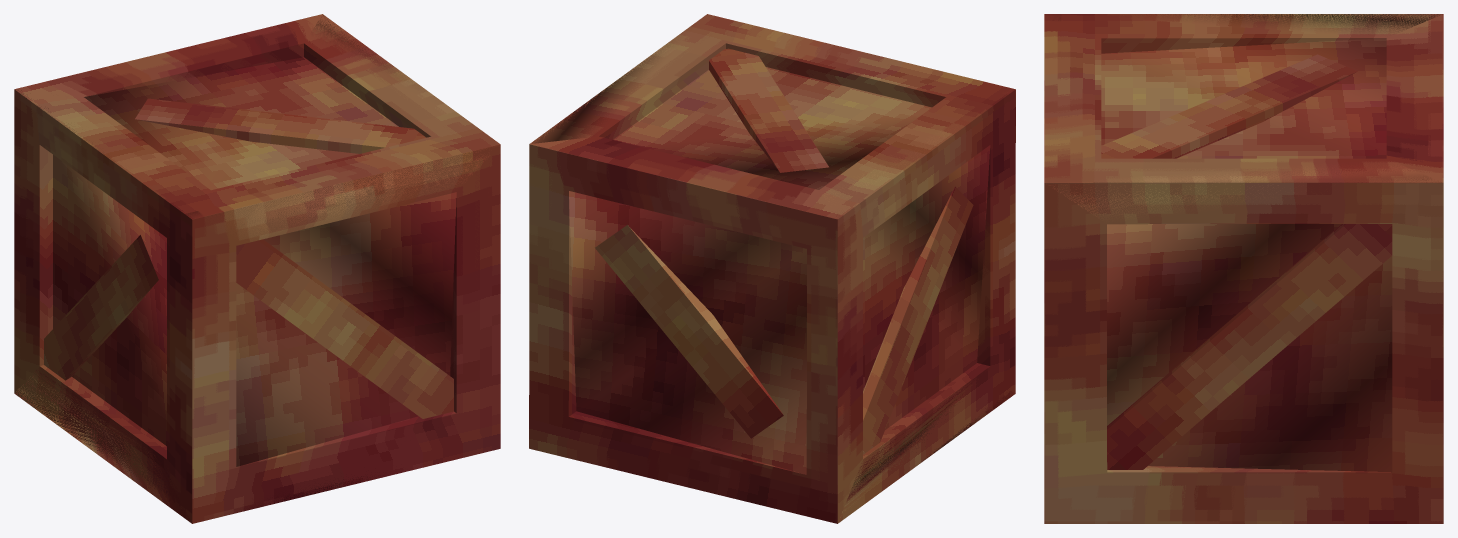
File: item_randombox_mobloot_zombie.glb
The picture shows the model from 3 angles, left to right: view 1: azimuth 30°, elevation 25°; view 2: azimuth 150°, elevation 25°; view 3: azimuth 270°, elevation 25°; orthographic projection. The views are drawn at different scales.
Visible parts, largest first — view 1: CrateSmall; view 2: CrateSmall; view 3: CrateSmall.
Boxes of the visible parts, x1,y1,x2,y2 form: CrateSmall: (14, 14, 500, 523); CrateSmall: (529, 14, 1015, 523); CrateSmall: (1044, 14, 1443, 523).
Bounding box in the file's own units: 0.4025 × 0.3796 × 0.4026.
Materials: 1 (1 with a texture image).
